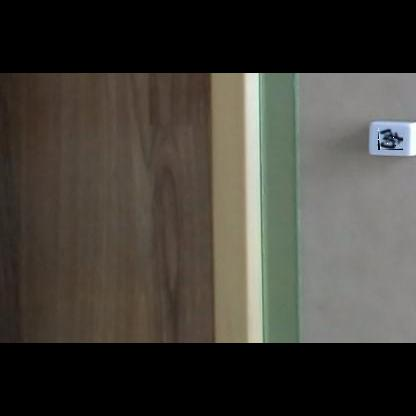2z: (378, 128, 403, 150)
